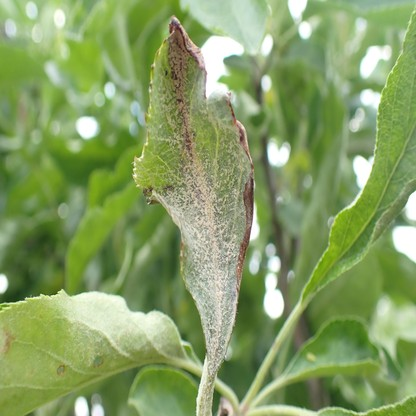powder: (132, 15, 255, 379), (51, 289, 183, 369), (373, 177, 415, 244), (0, 328, 10, 362)
